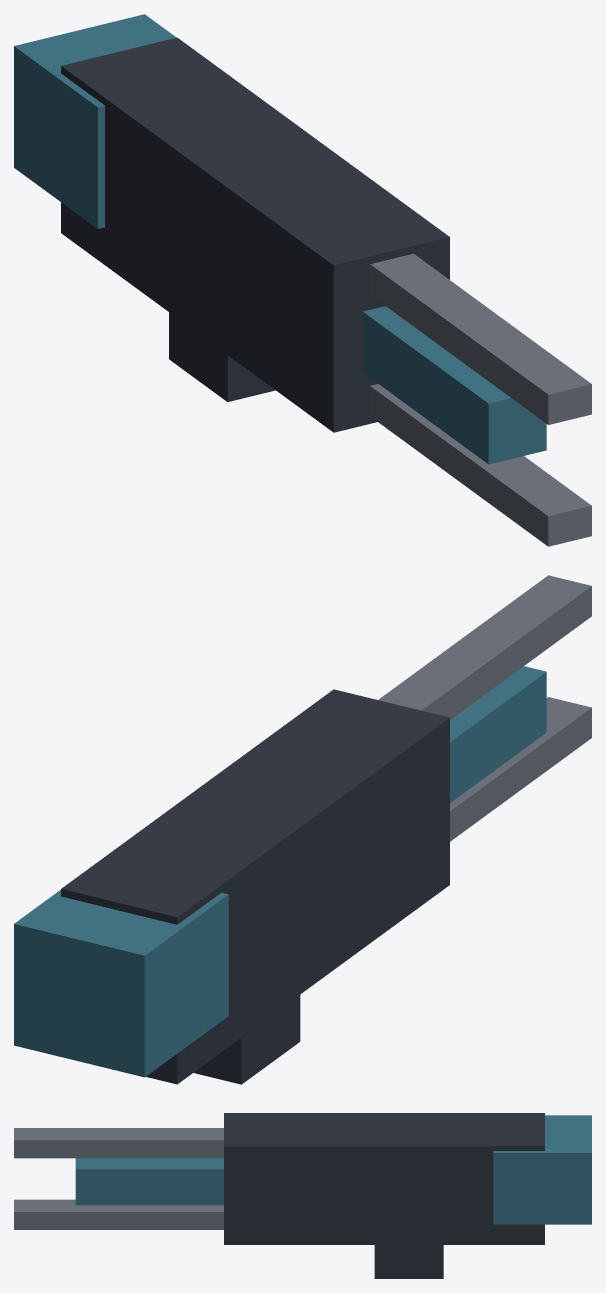
3 renders of one model, top to bottom at view 1: azimuth 30°, elevation 25°; view 2: azimuth 150°, elevation 25°; view 3: azimuth 270°, elevation 25°, orthographic. The views are drawn at different scales.
Size of the model in its own units: 0.18 by 0.31 by 1.17.
